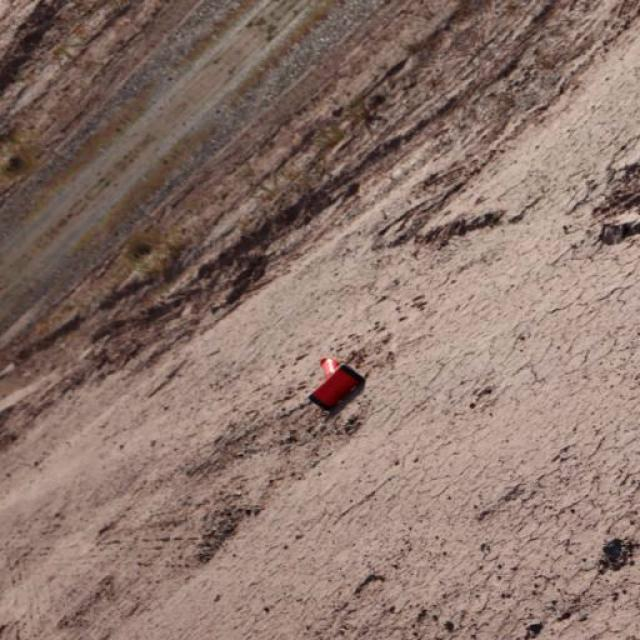mallet: (308, 355, 368, 411)
